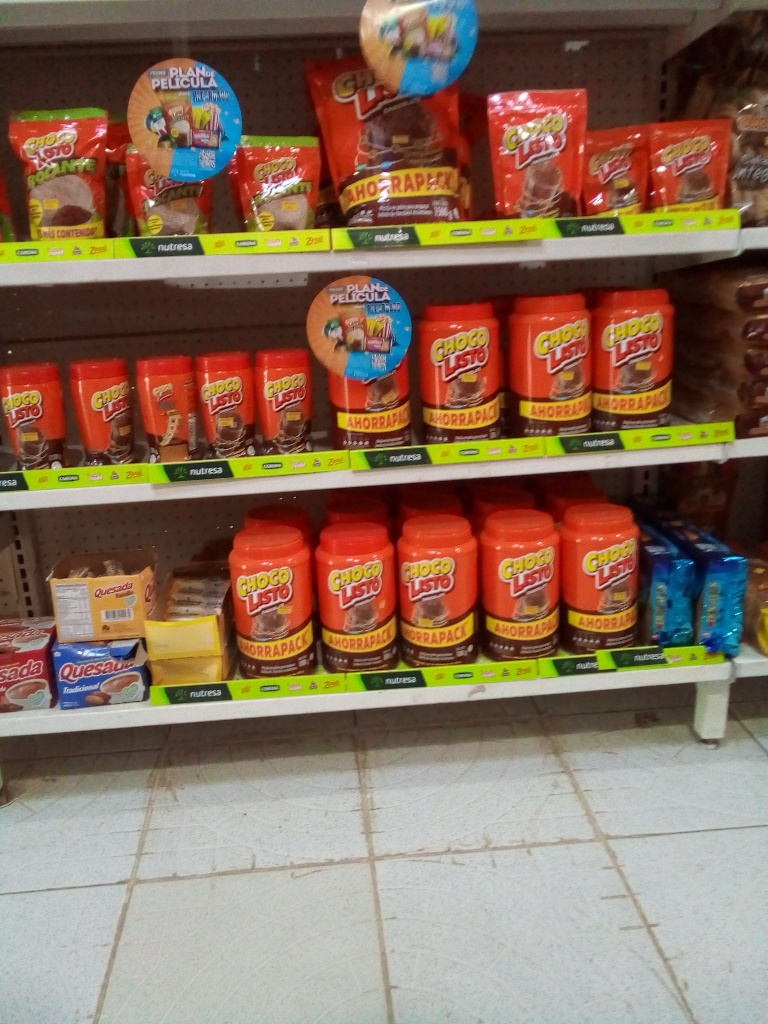COL0170102DYP10000: (121, 100, 228, 232)
COL0170102DYP25000: (9, 99, 123, 240)
COL0170103DYP1,500: (313, 54, 484, 226)
COL0170103DYP20000: (488, 85, 598, 223)
COL0170103TRR00100: (327, 285, 415, 445)
COL0170103TRR30000: (260, 348, 315, 452)
